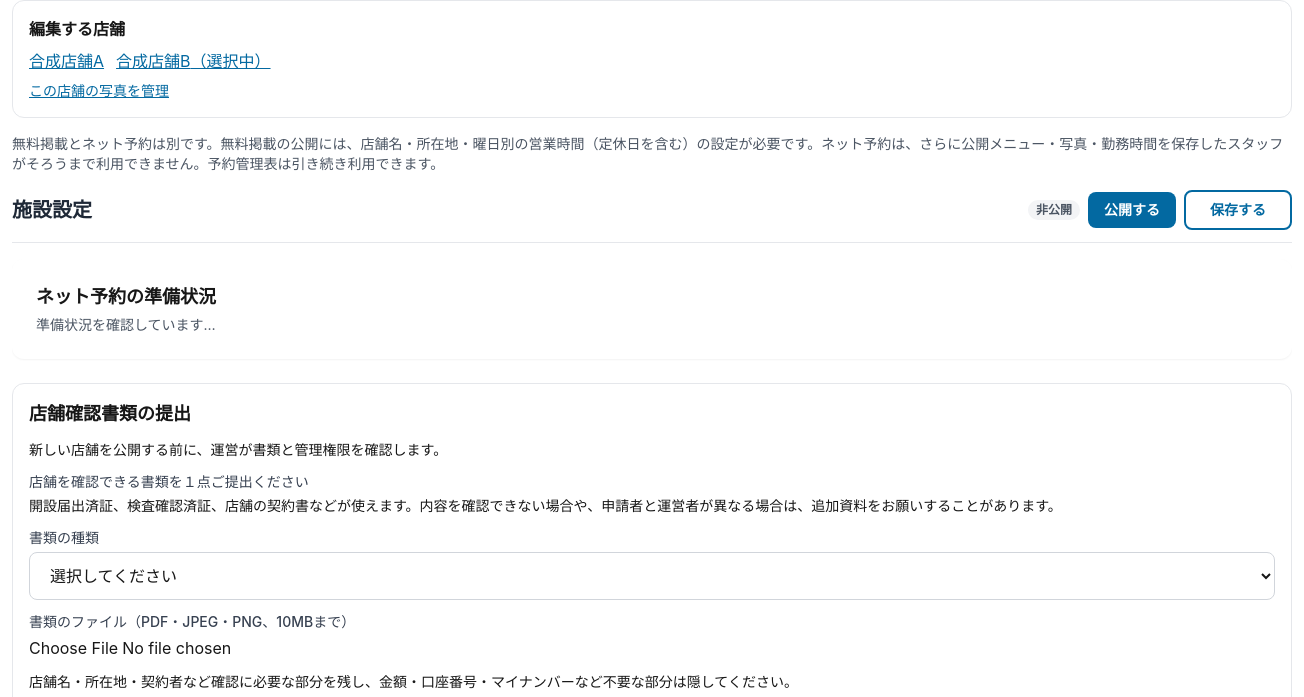
Test case: 公開の成功を確認できなければ非公開表示を維持：business-failure
Click the button "公開する".
click(1132, 210)  # box [1088,192,1176,228]
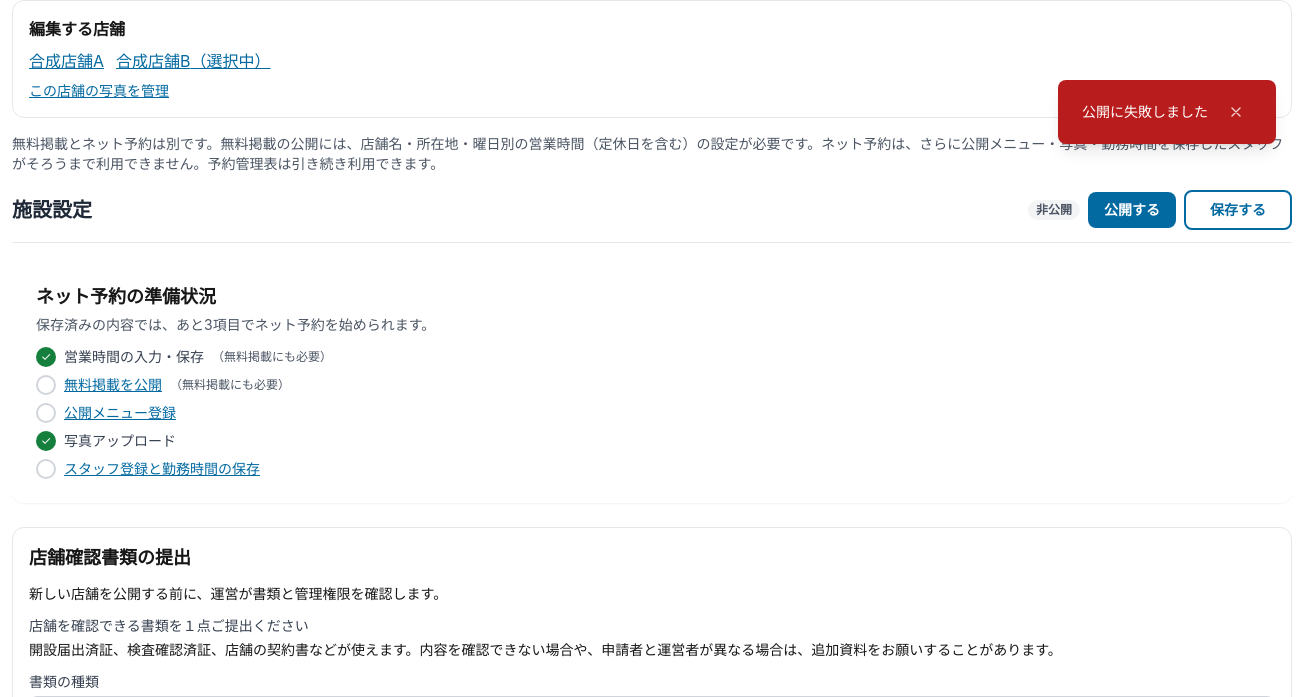
expect the text "非公開" is shown: met, box [1028,200,1080,220]
expect the text "公開に失敗しました" is shown: met, box [1082,102,1208,122]
